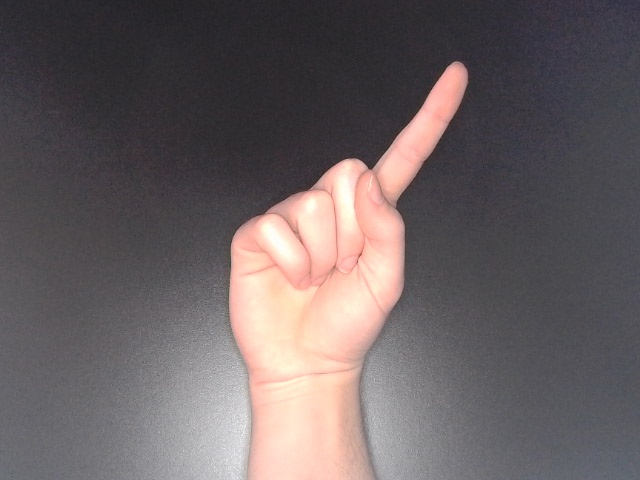z: (222, 55, 476, 417)
